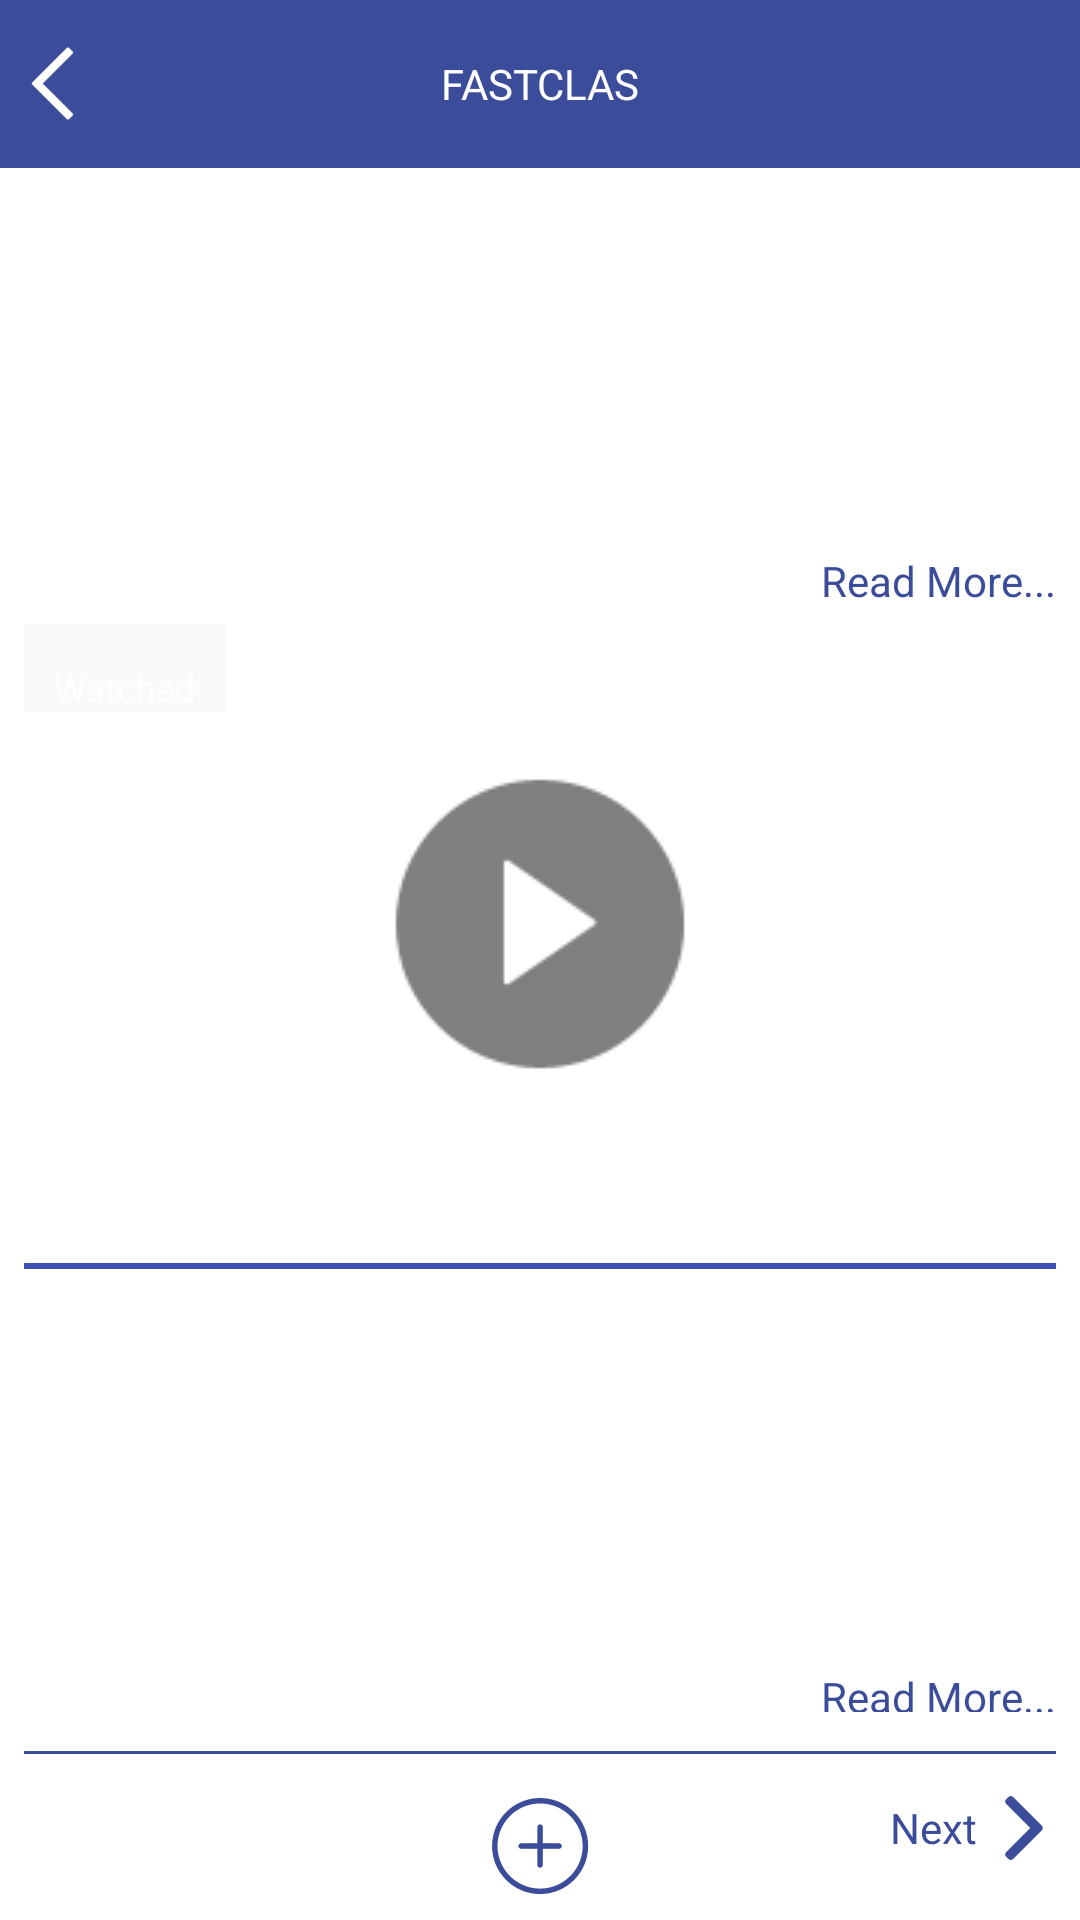

Icon click points for this 1080x1920 phone screenshot, format (x=x, y=y):
back: (x=52, y=83)
play button: (x=540, y=924)
